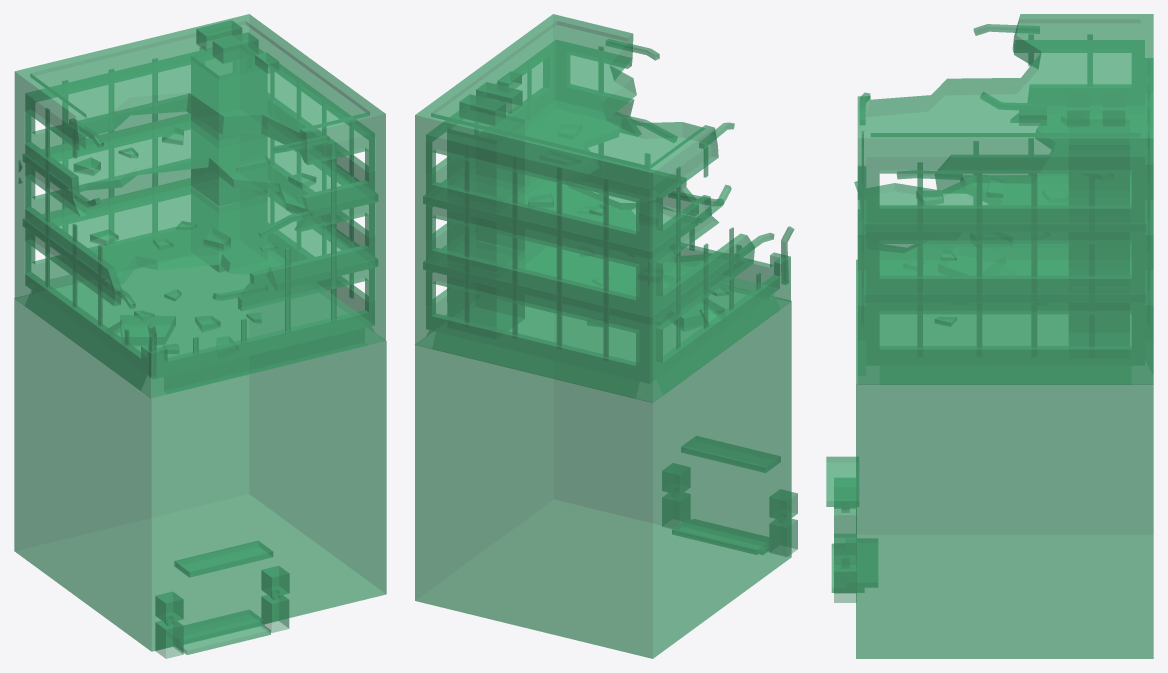
The model's file is SA_Bld_Office_Damaged_04_Collider.fbx.
3 views of the same model, side by side, from view 1: azimuth 30°, elevation 25°; view 2: azimuth 150°, elevation 25°; view 3: azimuth 270°, elevation 25° (orthographic). The views are drawn at different scales.
Parts seen in each view (by area): view 1: SA_Bld_Office_Damaged_04_Collider; view 2: SA_Bld_Office_Damaged_04_Collider; view 3: SA_Bld_Office_Damaged_04_Collider.
Boxes of the visible parts, bbox=[...] form: SA_Bld_Office_Damaged_04_Collider: bbox=[14, 14, 386, 658]; SA_Bld_Office_Damaged_04_Collider: bbox=[415, 14, 797, 658]; SA_Bld_Office_Damaged_04_Collider: bbox=[826, 14, 1153, 658].
Size of the model in its own units: 13.77 by 27.25 by 15.16.
